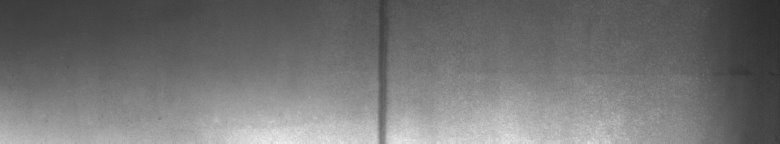hd: (372, 4, 400, 136)
